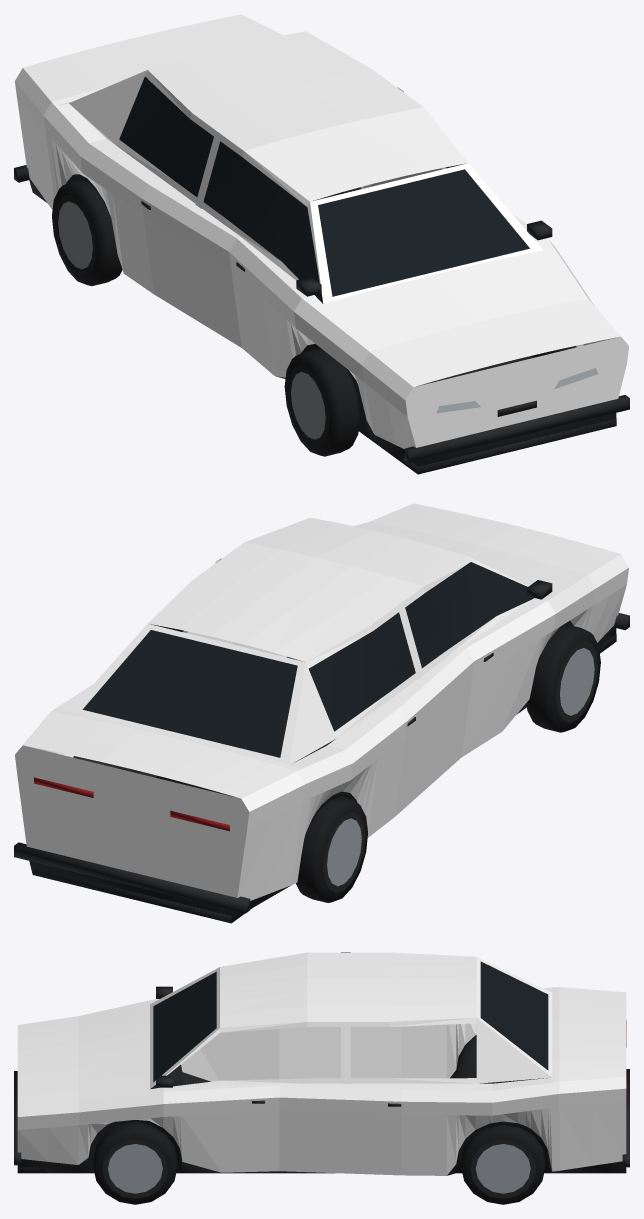
The model's file is feldhaus_zenite.glb.
3 views of the same model, one above another, from view 1: azimuth 30°, elevation 25°; view 2: azimuth 150°, elevation 25°; view 3: azimuth 270°, elevation 25° (orthographic). The views are drawn at different scales.
Visible parts, largest first — view 1: Body_Paint, Body_Details, Mount_FrontLeft_Wheel_Details, Mount_RearLeft_Wheel_Details; view 2: Body_Paint, Body_Details, Mount_FrontLeft_Wheel_Details, Mount_RearLeft_Wheel_Details; view 3: Body_Paint, Body_Details, Mount_FrontRight_Wheel_Details, Mount_RearRight_Wheel_Details.
Part boxes in pixels (box(x1,y1,x2,y2)): Body_Paint: box(15, 14, 628, 449); Body_Details: box(14, 77, 629, 474); Mount_FrontLeft_Wheel_Details: box(284, 348, 359, 456); Mount_RearLeft_Wheel_Details: box(52, 179, 122, 286); Body_Paint: box(15, 503, 628, 900); Body_Details: box(14, 562, 629, 923); Mount_FrontLeft_Wheel_Details: box(526, 624, 600, 732); Mount_RearLeft_Wheel_Details: box(296, 796, 367, 902); Body_Paint: box(17, 952, 626, 1175); Body_Details: box(14, 961, 629, 1175); Mount_FrontRight_Wheel_Details: box(93, 1122, 177, 1204); Mount_RearRight_Wheel_Details: box(461, 1125, 545, 1204).
Bounding box in the file's own units: 1.88 × 1.42 × 4.66.
Materials: 2 (1 with a texture image).
